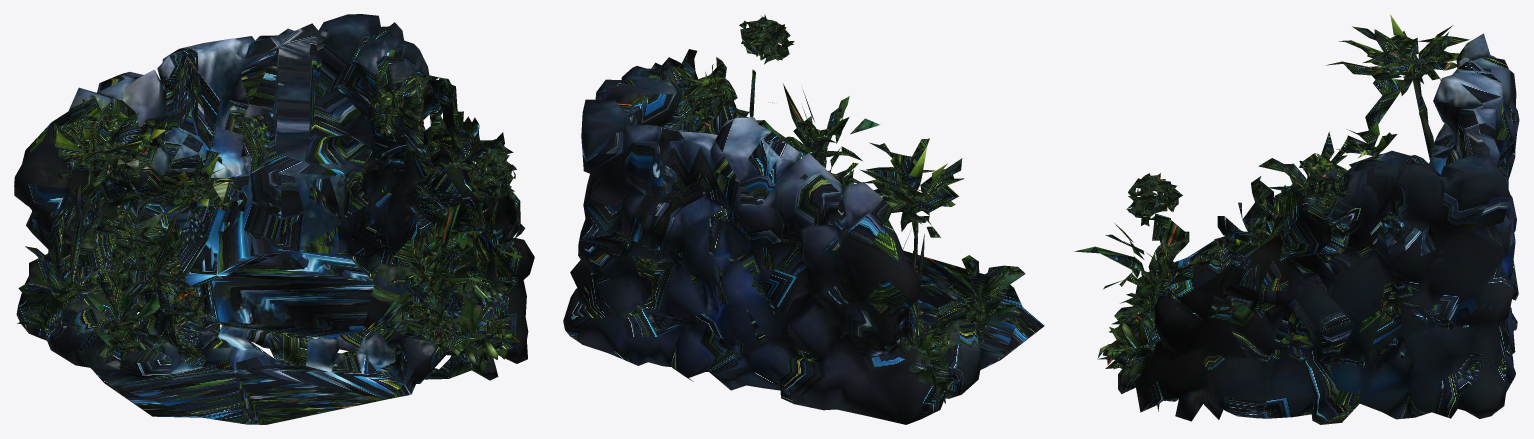
The model's file is A_black_rock_wall_wi.glb.
3 renders of one model, left to right at view 1: azimuth 30°, elevation 25°; view 2: azimuth 150°, elevation 25°; view 3: azimuth 270°, elevation 25°, orthographic. The views are drawn at different scales.
Parts seen in each view (by area): view 1: A_black_rock_wall_wi; view 2: A_black_rock_wall_wi; view 3: A_black_rock_wall_wi.
Boxes of the visible parts, bbox=[...] form: A_black_rock_wall_wi: bbox=[14, 14, 534, 424]; A_black_rock_wall_wi: bbox=[563, 14, 1044, 424]; A_black_rock_wall_wi: bbox=[1074, 14, 1519, 424].
Size of the model in its own units: 1.96 by 1.26 by 1.92.
1 material, 1 textured.
